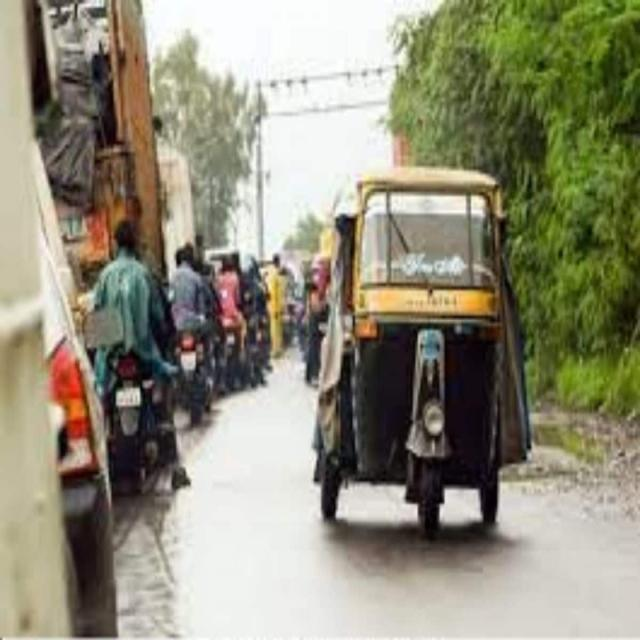autorickshaw: (315, 167, 530, 532)
